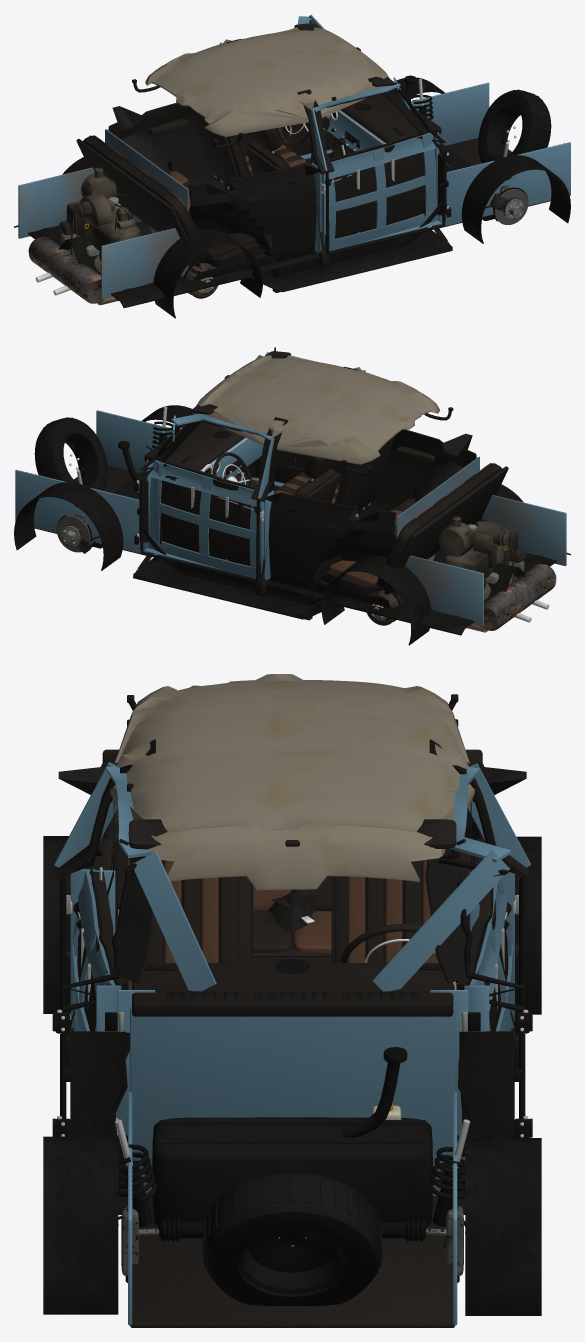
The model's file is besouro_completo.glb.
The picture shows the model from 3 angles, top to bottom: view 1: azimuth 30°, elevation 25°; view 2: azimuth 150°, elevation 25°; view 3: azimuth 270°, elevation 25°; orthographic projection. The views are drawn at different scales.
Parts seen in each view (by area): view 1: interior_forro_teto, interior_lateral_traseira_dir, engine_vao_traseiro, interior_portamalas_carpete, door_card_fr_chapa, interior_banco_traseiro, under_assoalho, interior_lateral_traseira_esq, door_card_fr, engine_motor, interior_portamalas_estepe, interior_painel (+15 smaller); view 2: interior_forro_teto, interior_lateral_traseira_esq, engine_vao_traseiro, interior_portamalas_carpete, door_card_fl_chapa, interior_banco_traseiro, under_assoalho, interior_lateral_traseira_dir, door_card_fl, engine_motor, interior_portamalas_estepe, interior_painel (+16 smaller); view 3: interior_forro_teto, interior_portamalas_carpete, under_tanque, interior_portamalas_estepe, interior_painel, under_caixa_roda_fl, under_caixa_roda_fr, jamb_fl_colunas, jamb_fr_colunas, interior_acabamento_colunas, interior_banco_dianteiro_esq, interior_banco_dianteiro_dir (+22 smaller).
Part boxes in pixels (x1,y1,x2,y2): interior_forro_teto: [132, 27, 389, 148]; interior_lateral_traseira_dir: [189, 163, 322, 262]; engine_vao_traseiro: [18, 129, 188, 299]; interior_portamalas_carpete: [411, 82, 570, 228]; door_card_fr_chapa: [321, 132, 441, 251]; interior_banco_traseiro: [76, 135, 266, 268]; under_assoalho: [14, 221, 452, 308]; interior_lateral_traseira_esq: [108, 102, 216, 187]; door_card_fr: [325, 130, 429, 238]; engine_motor: [59, 167, 140, 305]; interior_portamalas_estepe: [478, 89, 551, 163]; interior_painel: [326, 93, 441, 151]; interior_forro_teto: [192, 355, 453, 476]; interior_lateral_traseira_esq: [263, 492, 396, 600]; engine_vao_traseiro: [396, 457, 566, 626]; interior_portamalas_carpete: [15, 410, 172, 555]; door_card_fl_chapa: [144, 460, 263, 578]; interior_banco_traseiro: [319, 463, 508, 595]; under_assoalho: [133, 549, 570, 635]; interior_lateral_traseira_dir: [368, 429, 476, 515]; door_card_fl: [156, 457, 260, 566]; engine_motor: [439, 516, 525, 632]; interior_portamalas_estepe: [34, 417, 107, 490]; interior_painel: [144, 421, 263, 481]; interior_forro_teto: [110, 674, 477, 890]; interior_portamalas_carpete: [128, 1007, 457, 1327]; under_tanque: [152, 1047, 432, 1226]; interior_portamalas_estepe: [202, 1173, 382, 1306]; interior_painel: [132, 959, 456, 1016]; under_caixa_roda_fl: [465, 1138, 541, 1315]; under_caixa_roda_fr: [43, 1136, 118, 1314]; jamb_fl_colunas: [372, 763, 530, 1160]; jamb_fr_colunas: [54, 762, 216, 1135]; interior_acabamento_colunas: [56, 739, 528, 983]; interior_banco_dianteiro_esq: [331, 851, 473, 962]; interior_banco_dianteiro_dir: [111, 838, 253, 989].
Size of what is drawn, in the model's own units: 3.89 by 1.4 by 1.69.
42 materials, 42 textured.
